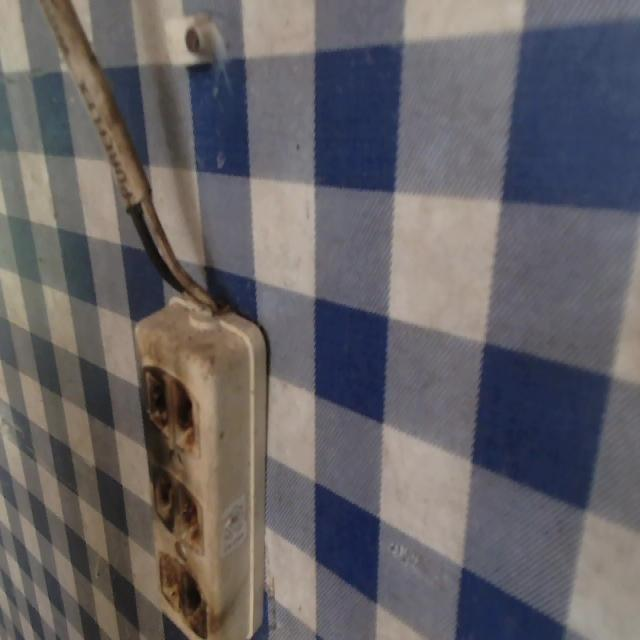-: (139, 359, 204, 456), (149, 463, 208, 556), (155, 549, 211, 639)
